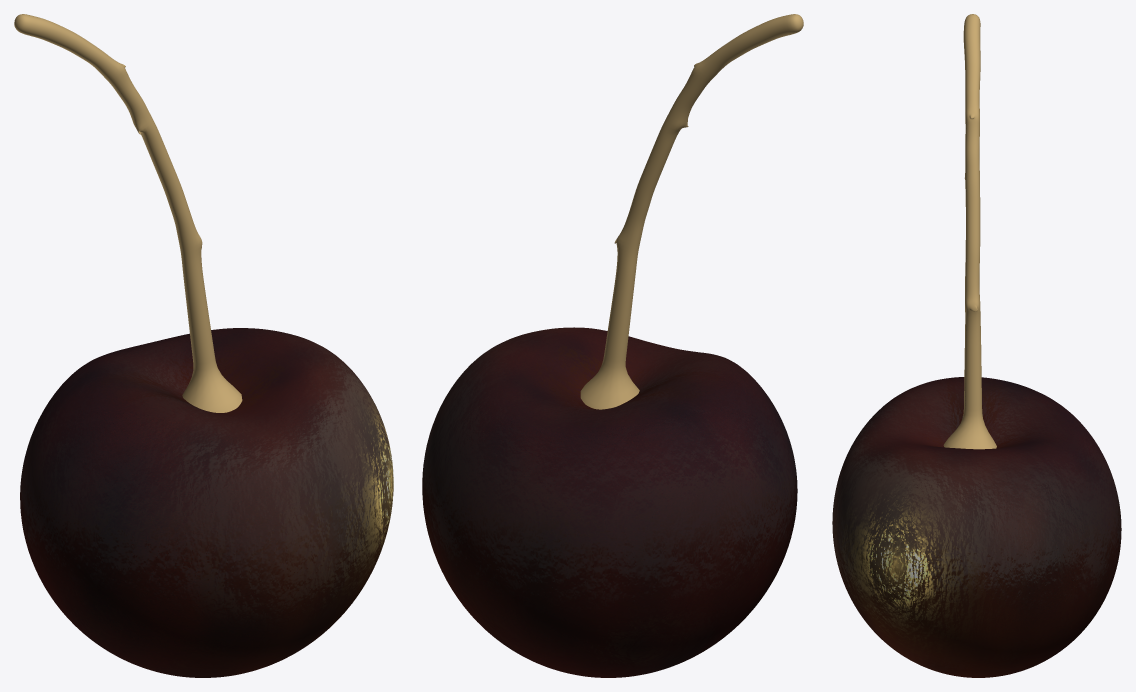
Rendered from cherry.obj.
3 views of the same model, side by side, from view 1: azimuth 30°, elevation 25°; view 2: azimuth 150°, elevation 25°; view 3: azimuth 270°, elevation 25° (orthographic). The views are drawn at different scales.
Visible parts, largest first — view 1: Sphere; view 2: Sphere; view 3: Sphere.
Part boxes in pixels (left/top/right/bottom): Sphere: left=14, top=14, right=393, bottom=677; Sphere: left=422, top=14, right=803, bottom=677; Sphere: left=832, top=14, right=1121, bottom=677.
Size of the model in its own units: 0.0313 by 0.058 by 0.0265.
Materials: 2 (2 with a texture image).
